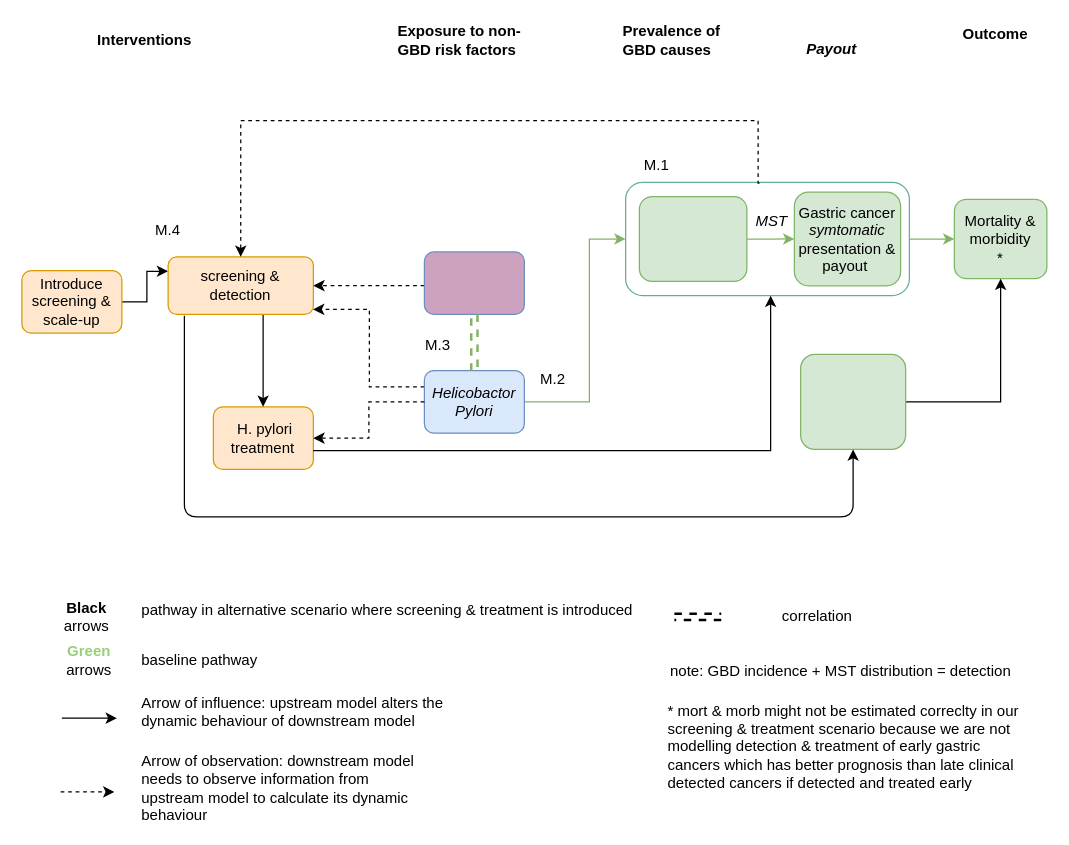
Some shapes in this 1069 by 845 pixel diagram are drawn without their labels. Here are the shapes that lost their labels. From the top down, the centre of each, then its label:
At point (692, 238): "Gastric cancer onset".
At point (473, 282): "pre- cancer states (esp. atrophy)".
At point (852, 401): "Gastric cancer asymptomatic detection & payout".
